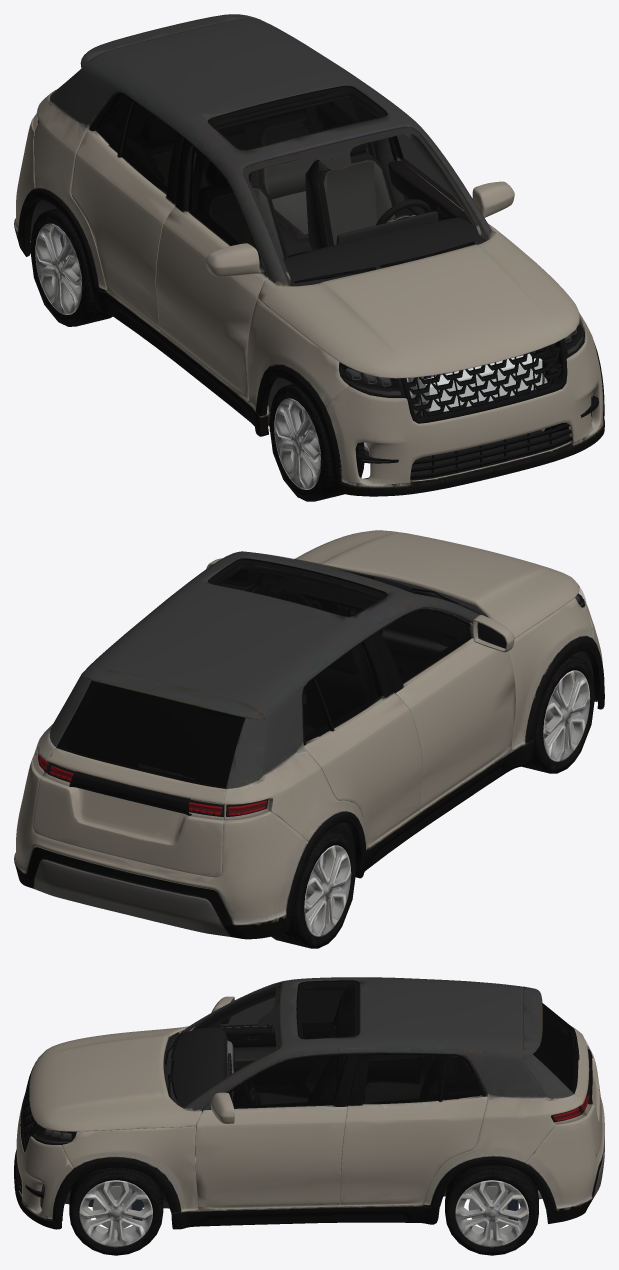
The model's file is suv.glb.
The picture shows the model from 3 angles, top to bottom: view 1: azimuth 30°, elevation 25°; view 2: azimuth 150°, elevation 25°; view 3: azimuth 270°, elevation 25°; orthographic projection. The views are drawn at different scales.
Parts seen in each view (by area): view 1: fender-front-arch-right_body_0, taillight-body-cover-right_glass-headlight-cover_0, seat-front-left_interior_0, taillight-body-back-right_black-plastic-glossy_0, brake-caliper-fl_wheels-brakes_0, tire-low-fl_tire-low_0, spring-damper-front-left_mechanics-chassis_0, engine-low_engine_0; view 2: fender-front-arch-right_body_0, taillight-body-cover-right_glass-headlight-cover_0, seat-front-left_interior_0, brake-caliper-fl_wheels-brakes_0, taillight-body-back-right_black-plastic-glossy_0, tire-low-fl_tire-low_0; view 3: fender-front-arch-right_body_0, taillight-body-cover-right_glass-headlight-cover_0, seat-front-left_interior_0, brake-caliper-fl_wheels-brakes_0, tire-low-fl_tire-low_0, taillight-body-back-right_black-plastic-glossy_0.
Boxes of the visible parts, x1=… form: fender-front-arch-right_body_0: x1=14, y1=14, x2=604, y2=496; taillight-body-cover-right_glass-headlight-cover_0: x1=33, y1=85, x2=585, y2=397; seat-front-left_interior_0: x1=98, y1=92, x2=486, y2=286; taillight-body-back-right_black-plastic-glossy_0: x1=37, y1=119, x2=598, y2=479; brake-caliper-fl_wheels-brakes_0: x1=35, y1=223, x2=547, y2=489; tire-low-fl_tire-low_0: x1=30, y1=208, x2=592, y2=501; spring-damper-front-left_mechanics-chassis_0: x1=30, y1=199, x2=569, y2=479; engine-low_engine_0: x1=406, y1=353, x2=542, y2=411; fender-front-arch-right_body_0: x1=14, y1=530, x2=604, y2=939; taillight-body-cover-right_glass-headlight-cover_0: x1=33, y1=553, x2=585, y2=820; seat-front-left_interior_0: x1=215, y1=564, x2=470, y2=802; brake-caliper-fl_wheels-brakes_0: x1=304, y1=670, x2=590, y2=936; taillight-body-back-right_black-plastic-glossy_0: x1=37, y1=564, x2=584, y2=817; tire-low-fl_tire-low_0: x1=271, y1=656, x2=595, y2=948; fender-front-arch-right_body_0: x1=14, y1=977, x2=604, y2=1229; taillight-body-cover-right_glass-headlight-cover_0: x1=31, y1=980, x2=592, y2=1144; seat-front-left_interior_0: x1=132, y1=985, x2=553, y2=1190; brake-caliper-fl_wheels-brakes_0: x1=79, y1=1180, x2=528, y2=1247; tire-low-fl_tire-low_0: x1=69, y1=1165, x2=538, y2=1255; taillight-body-back-right_black-plastic-glossy_0: x1=17, y1=1001, x2=592, y2=1198.
Bounding box in the file's own units: 1.95 × 1.56 × 4.19.
8 materials, 8 textured.
